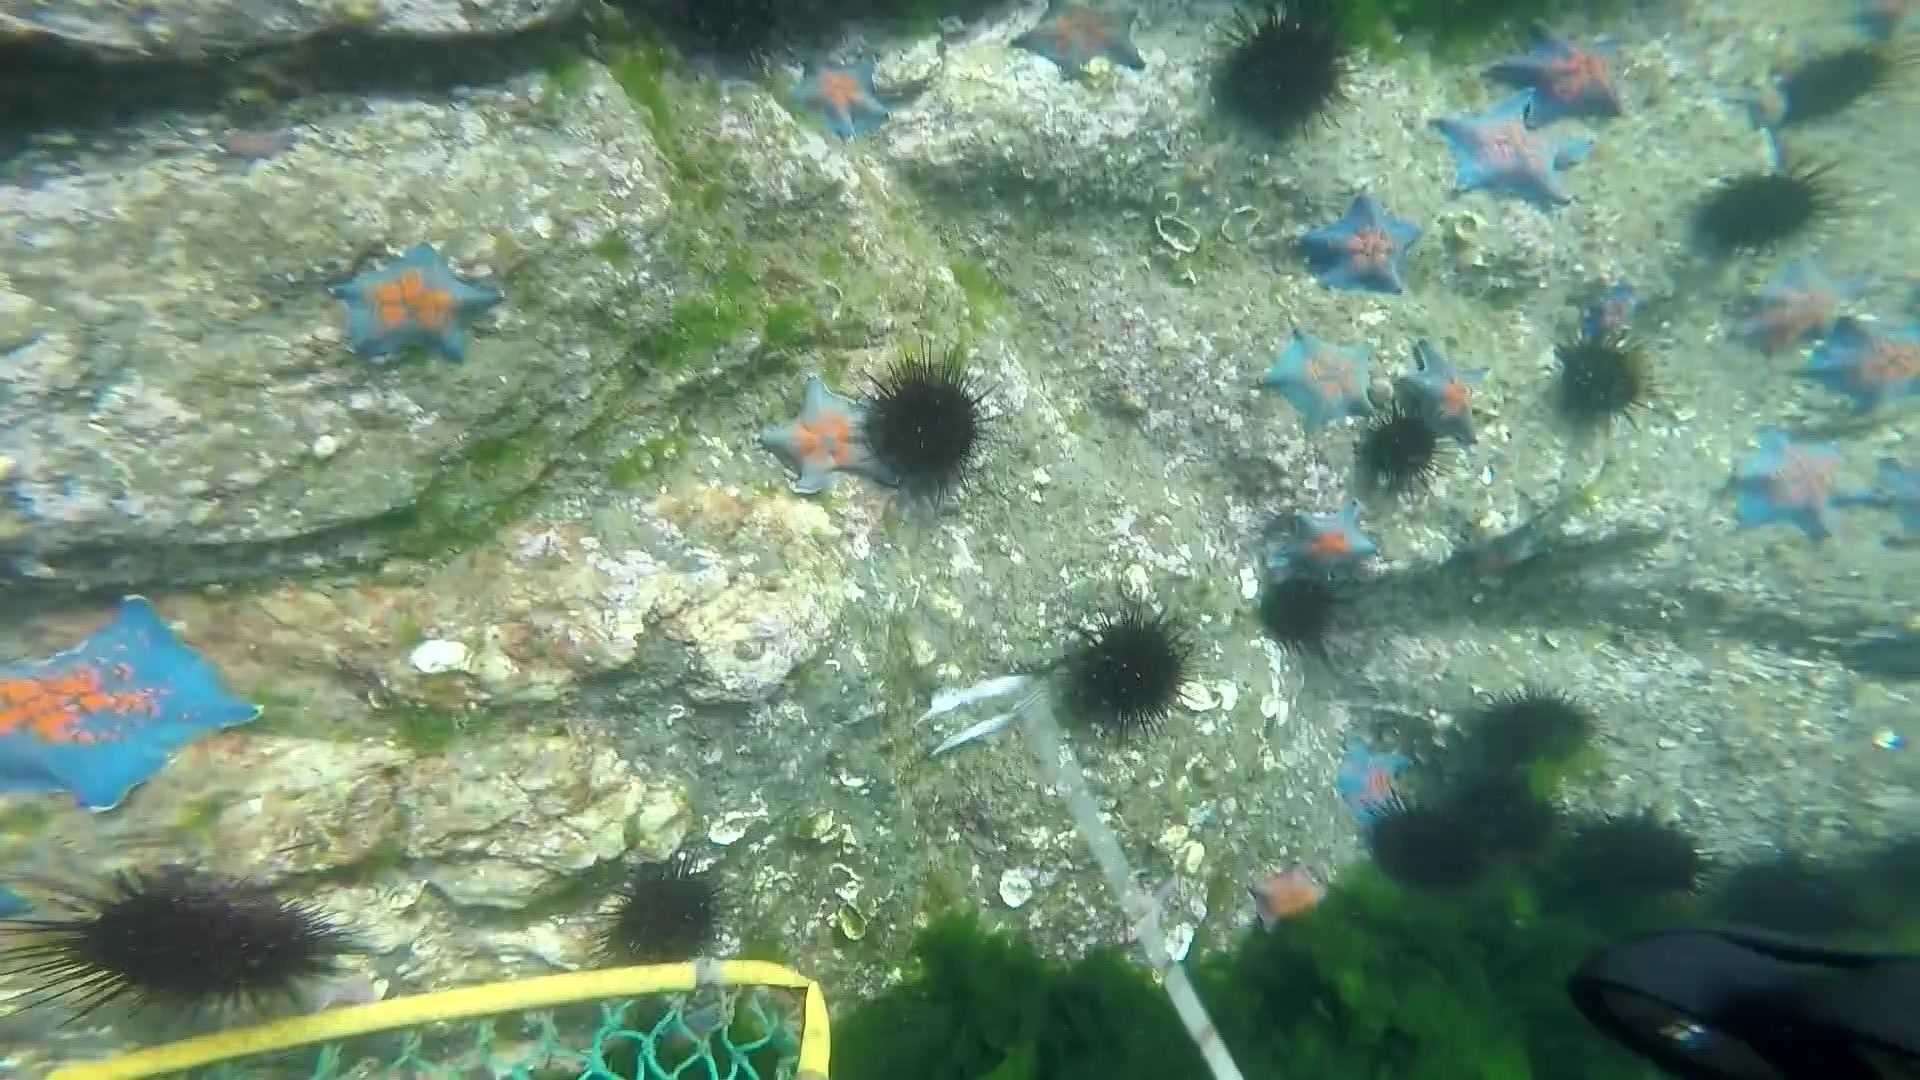echinus: (11, 860, 356, 1034), (1201, 4, 1362, 146), (857, 352, 997, 501), (1056, 607, 1197, 737), (1549, 804, 1708, 918), (592, 856, 733, 971), (1687, 160, 1840, 261), (612, 3, 800, 82), (1733, 843, 1865, 940), (1465, 683, 1602, 777), (1365, 795, 1489, 895), (1544, 327, 1656, 436), (1774, 41, 1894, 131), (1447, 769, 1559, 862), (1354, 405, 1447, 493), (1253, 572, 1341, 651), (1873, 825, 1920, 891)
starfish: (1, 593, 262, 818), (326, 237, 505, 371), (1721, 422, 1894, 549), (1429, 87, 1592, 214), (752, 372, 895, 504), (1731, 247, 1880, 364), (1485, 13, 1633, 131), (1292, 186, 1429, 302), (1255, 320, 1385, 434), (1797, 307, 1920, 425), (1005, 3, 1153, 87), (779, 47, 899, 146), (1396, 336, 1501, 448), (1327, 728, 1424, 835), (1271, 495, 1382, 587), (1244, 857, 1342, 943), (1563, 272, 1655, 348), (1833, 624, 1920, 688), (1867, 450, 1920, 553), (1713, 74, 1795, 138), (212, 121, 302, 167), (1844, 1, 1912, 46)
